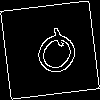Q: (25, 25, 85, 88)
